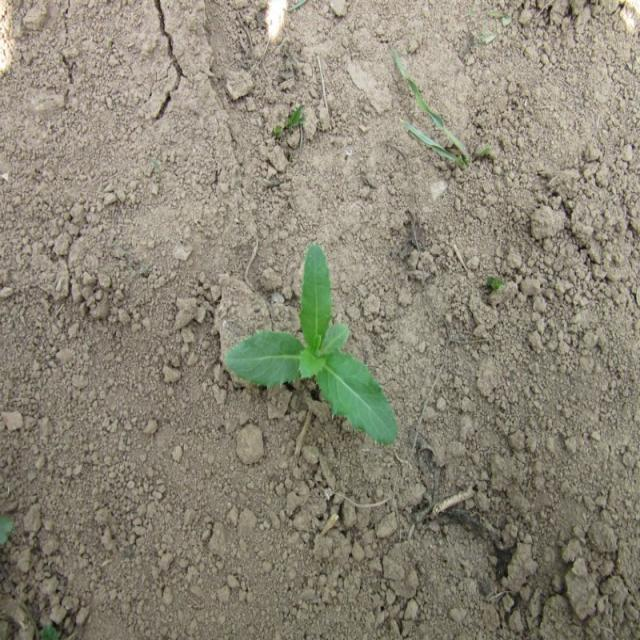field_thistle: (198, 257, 390, 432)
